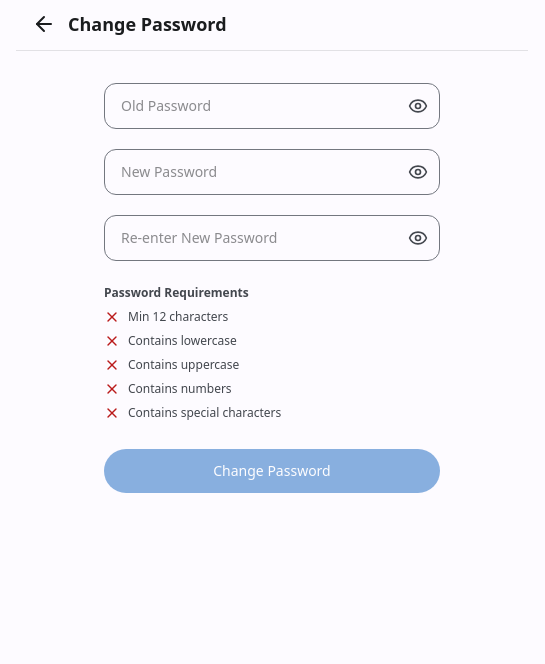
Test: ChangePasswordPage › shows error when old password is wrong
This screenshot has width=545, height=664.
Type "WrongOld123!" into the password field with placeholder "Old Password" at {"x": 272, "y": 106}, box [104,83,440,129]
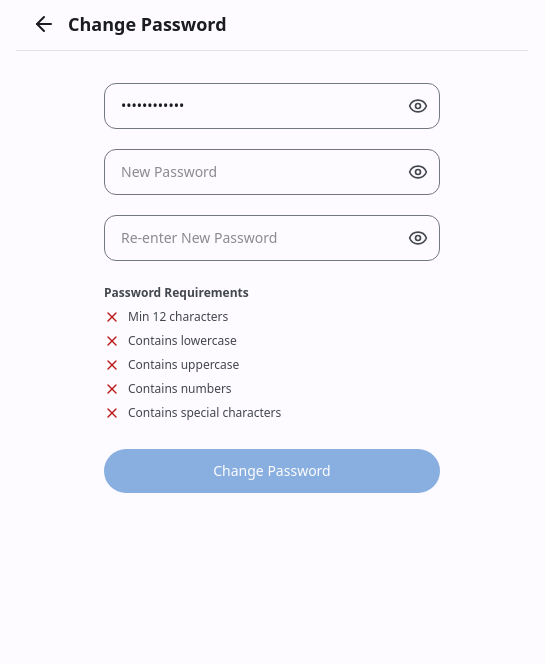
Type "NewSecure@12345" into the password field with placeholder "New Password" at {"x": 272, "y": 172}, box [104,149,440,195]
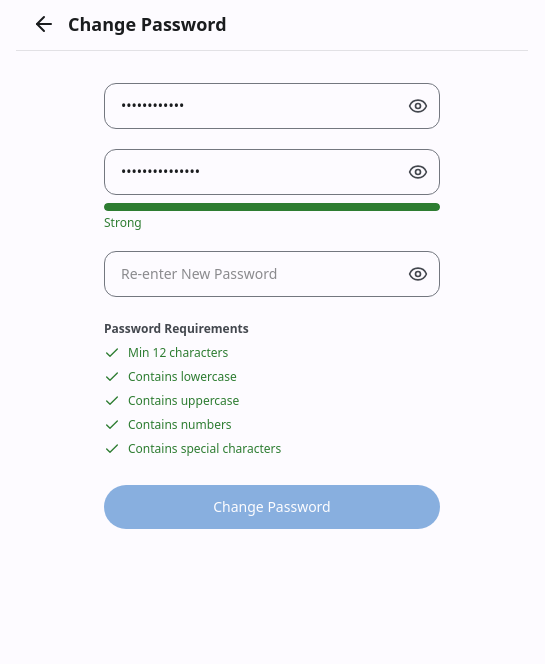
Type "NewSecure@12345" into the password field with placeholder "Re-enter New Password" at {"x": 272, "y": 274}, box [104,251,440,297]
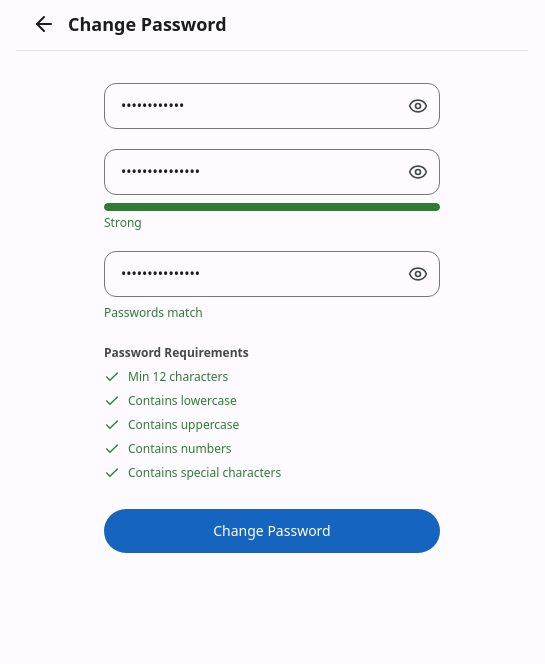
Click the button "Change Password" at {"x": 272, "y": 531}, box [104,509,440,553]
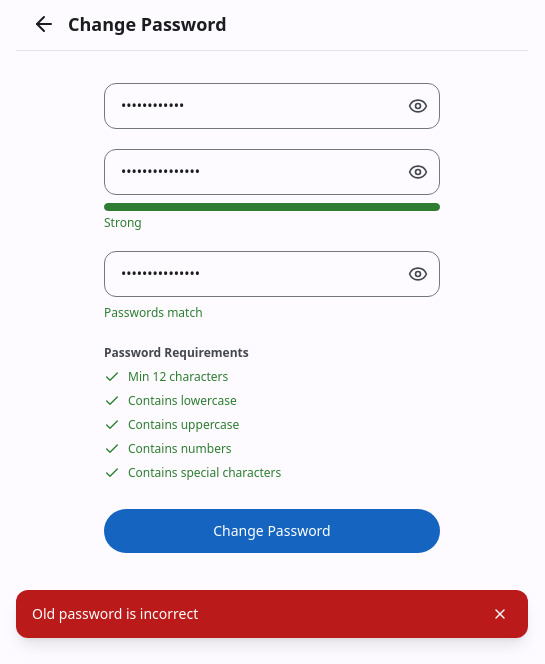
Result: the text "Old password is incorrect" is shown at [32,604,198,624]
